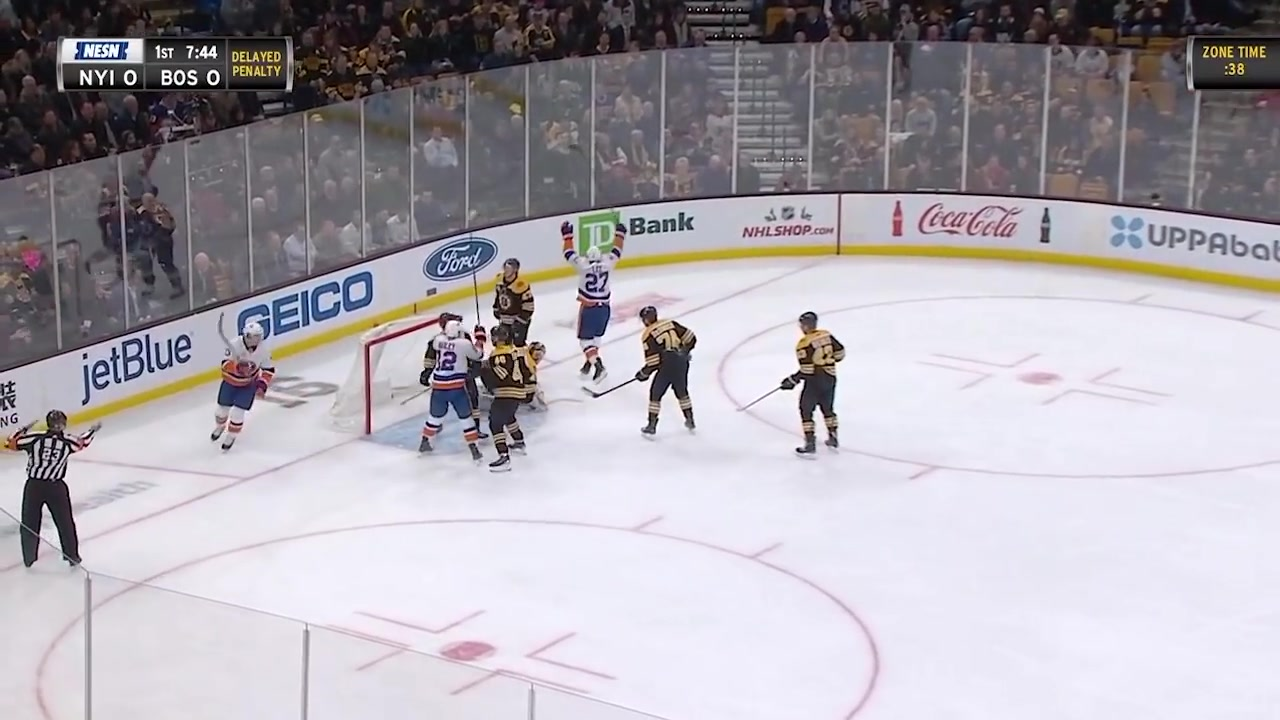Geico: (238, 264, 382, 352)
